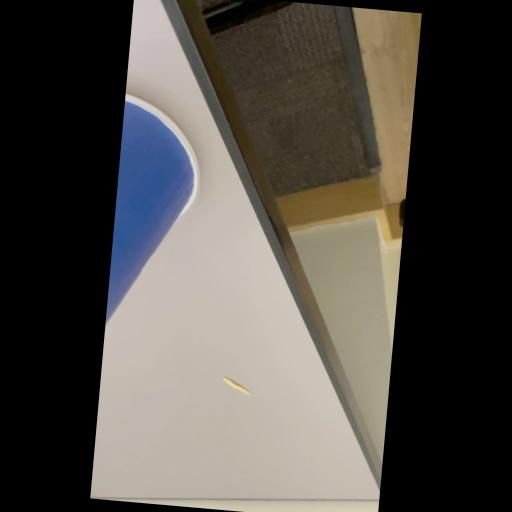lp_paper_cup: (102, 86, 212, 367)
